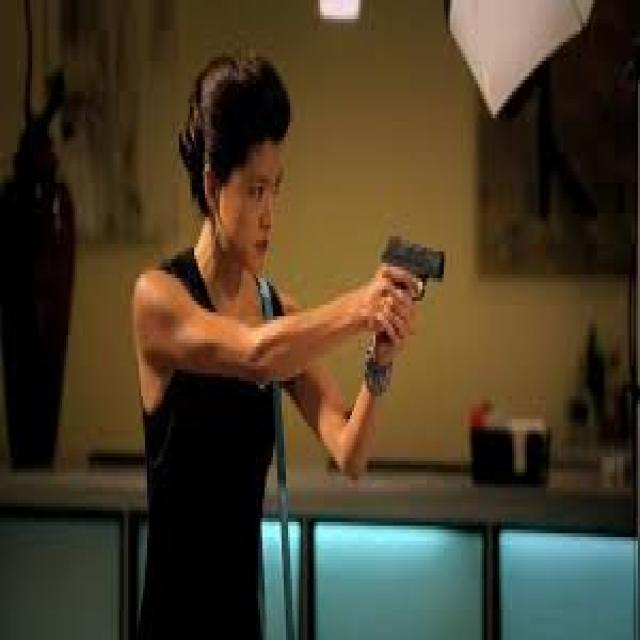weapons: (370, 208, 456, 333)
